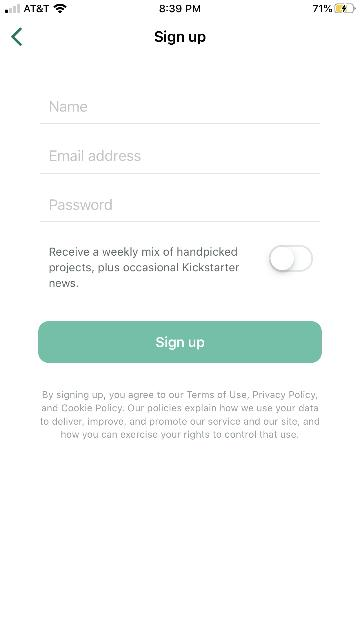EditText: (40, 100, 320, 124), (40, 150, 320, 174), (40, 198, 320, 222)
Icon: (10, 28, 22, 46)
Switch: (269, 244, 313, 272)
Text: (40, 390, 318, 440), (49, 247, 239, 287), (50, 150, 142, 160), (50, 198, 112, 210), (154, 30, 206, 44), (156, 336, 204, 349), (50, 100, 88, 112)
TextButton: (38, 322, 322, 362)
UpperTaskBar: (0, 0, 360, 14)
